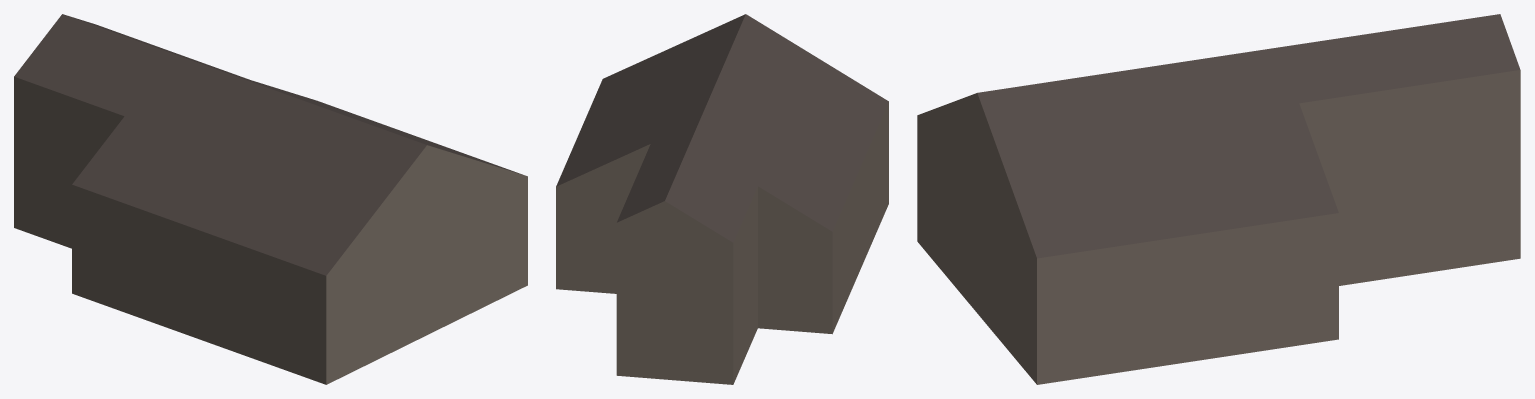
3 renders of one model, left to right at view 1: azimuth 30°, elevation 25°; view 2: azimuth 150°, elevation 25°; view 3: azimuth 270°, elevation 25°, orthographic. The views are drawn at different scales.
Parts seen in each view (by area): view 1: HP-w859457370; view 2: HP-w859457370; view 3: HP-w859457370.
Part boxes in pixels (x1,y1,x2,y2): HP-w859457370: [14, 14, 527, 384]; HP-w859457370: [556, 14, 888, 384]; HP-w859457370: [917, 14, 1520, 384].
Bounding box in the file's own units: 20.17 × 10.46 × 25.93.
